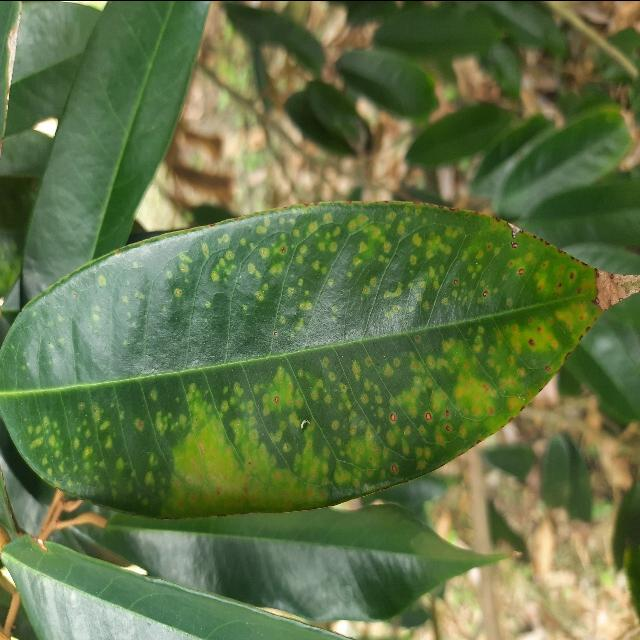Leaf Spot: (0, 178, 640, 531)
